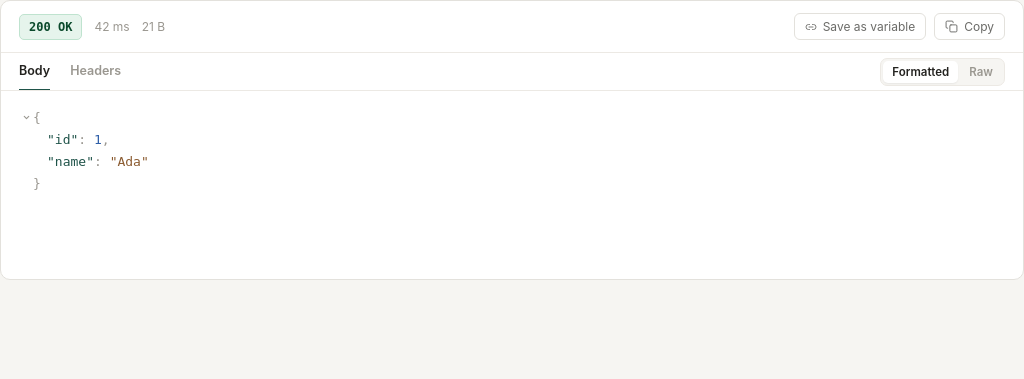
Test: ResponsePanel — save as variable (request chaining) › shows the returned error message and no confirmation on failure
Click the button "Save as variable": click(860, 26) [794,13,926,40]
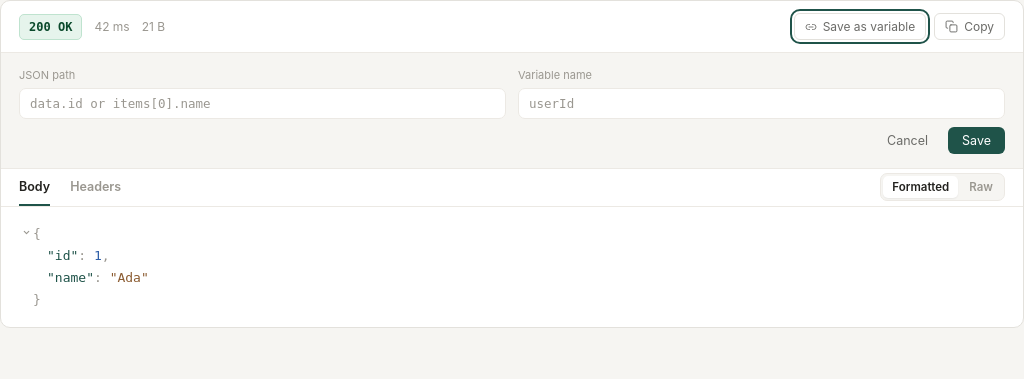
In the field with placeholder "data.id or items[0].name": (262, 103) [19,88,506,118], type "missing"
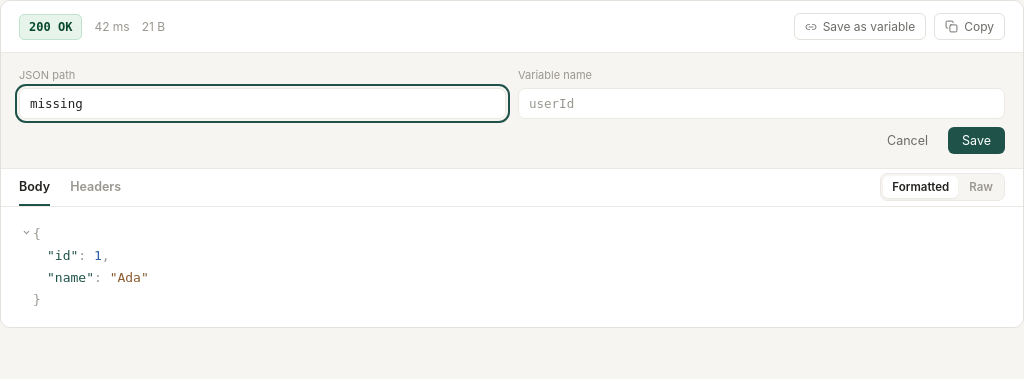
Click the button "Save": click(977, 140) [948,126,1005,154]
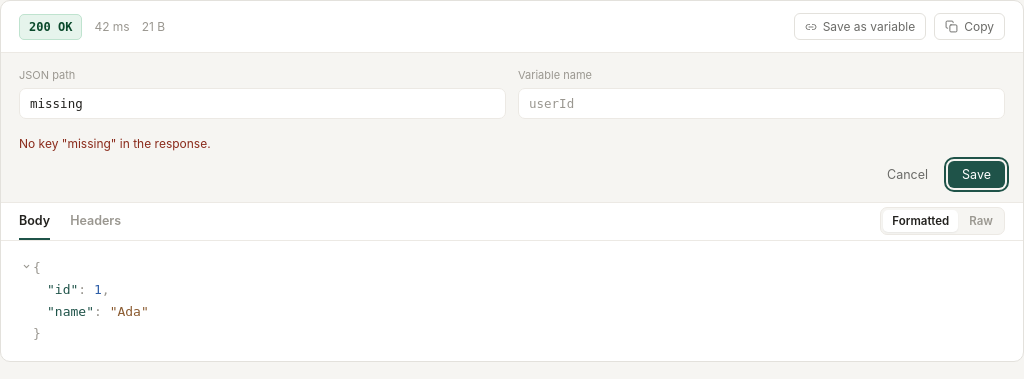
Check: the text "No key \"missing\" in the response." is shown, box [19,136,211,150]
